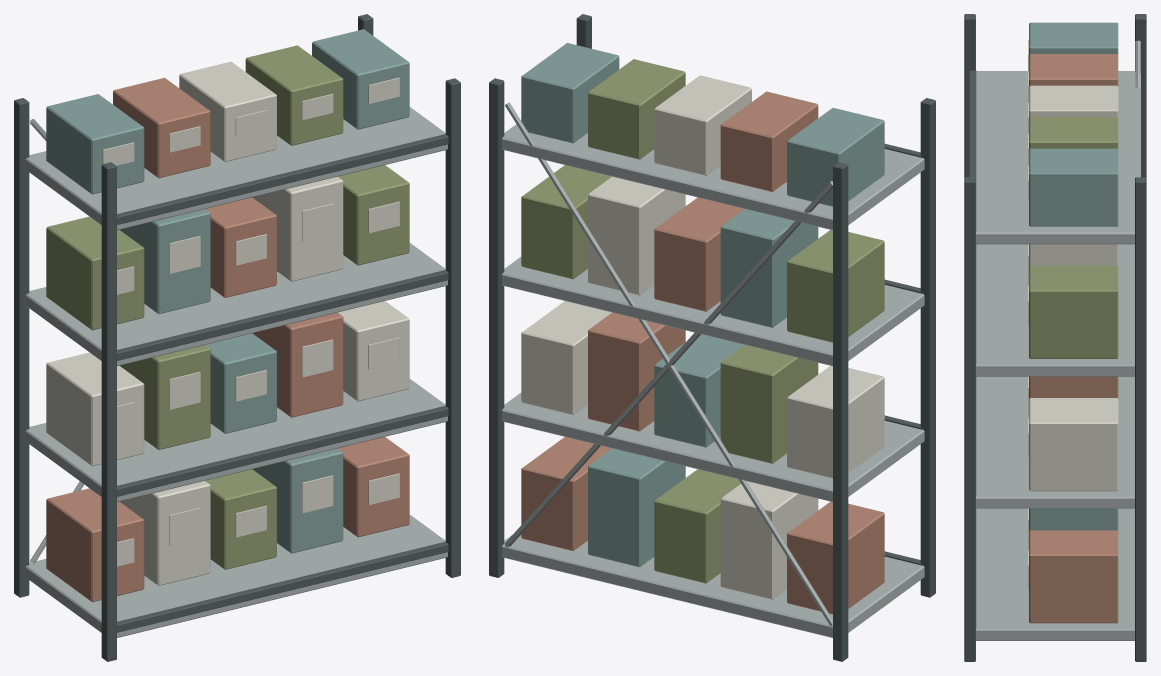
Rendered from retail_shelf.fbx.
3 views of the same model, side by side, from view 1: azimuth 30°, elevation 25°; view 2: azimuth 150°, elevation 25°; view 3: azimuth 270°, elevation 25° (orthographic). The views are drawn at different scales.
Parts seen in each view (by area): view 1: retail_shelf; view 2: retail_shelf; view 3: retail_shelf.
Boxes of the visible parts, left/top/right/bottom form: retail_shelf: left=14, top=14, right=460, bottom=661; retail_shelf: left=489, top=14, right=935, bottom=661; retail_shelf: left=964, top=14, right=1146, bottom=661.
Bounding box in the file's own units: 1.2 × 1.6 × 0.55.
